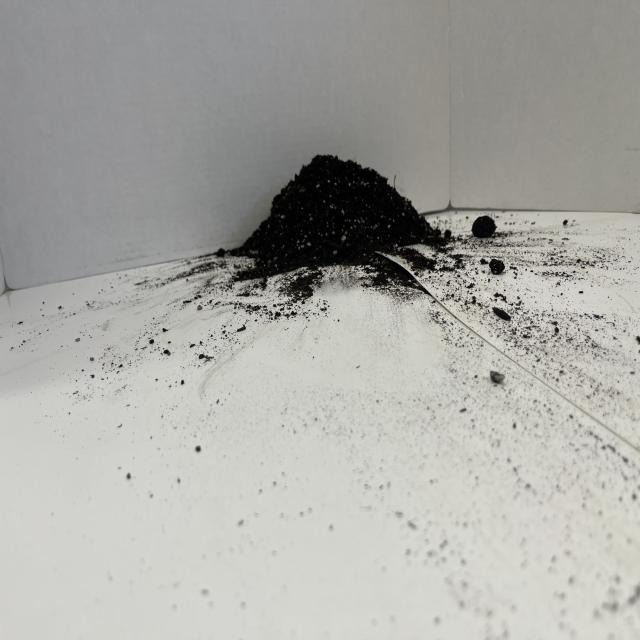soil: (222, 150, 444, 280)
